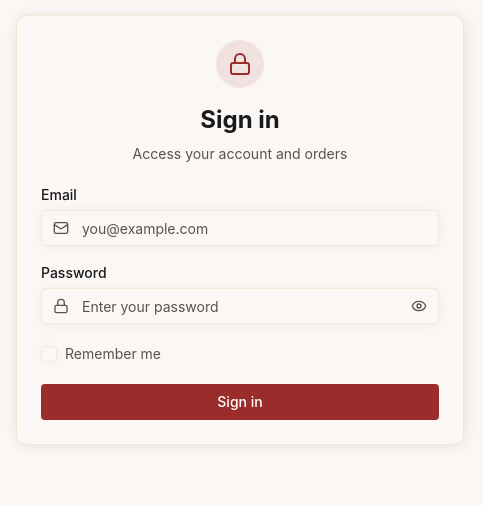
Scenario: LoginForm › form validation › shows 'valid email' error when email format is invalid
The width and height of the screenshot is (483, 505).
Type "not-an-email" into the field labelled "Email".
click(240, 228); type("not-an-email")  # box left=41, top=210, right=439, bottom=246
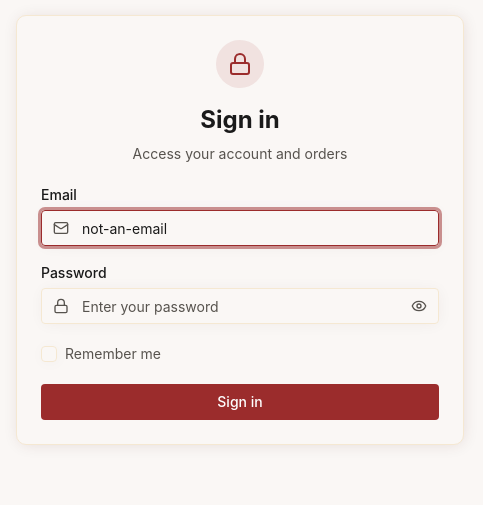
Click the button with test id "login-submit".
click(240, 402)  # box left=41, top=384, right=439, bottom=420
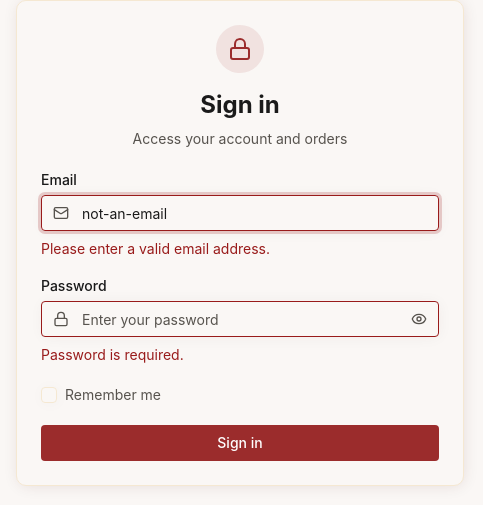
Now the text "Please enter a valid email address." is shown, box left=41, top=240, right=270, bottom=257
